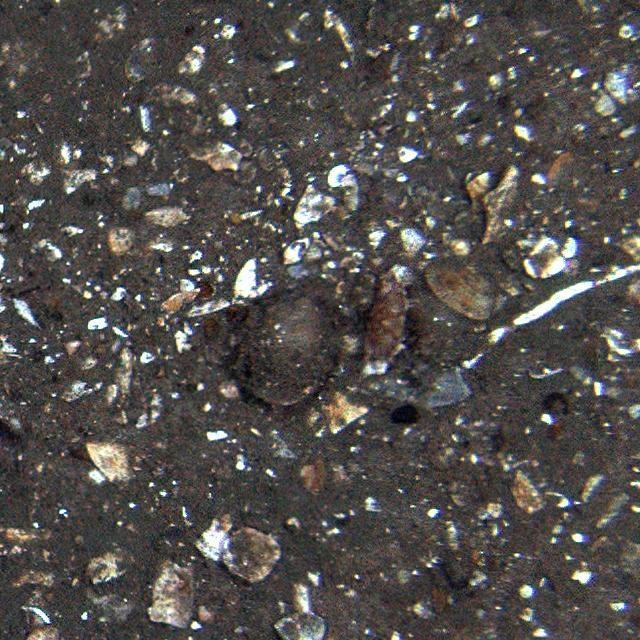crab: (355, 274, 425, 372)
